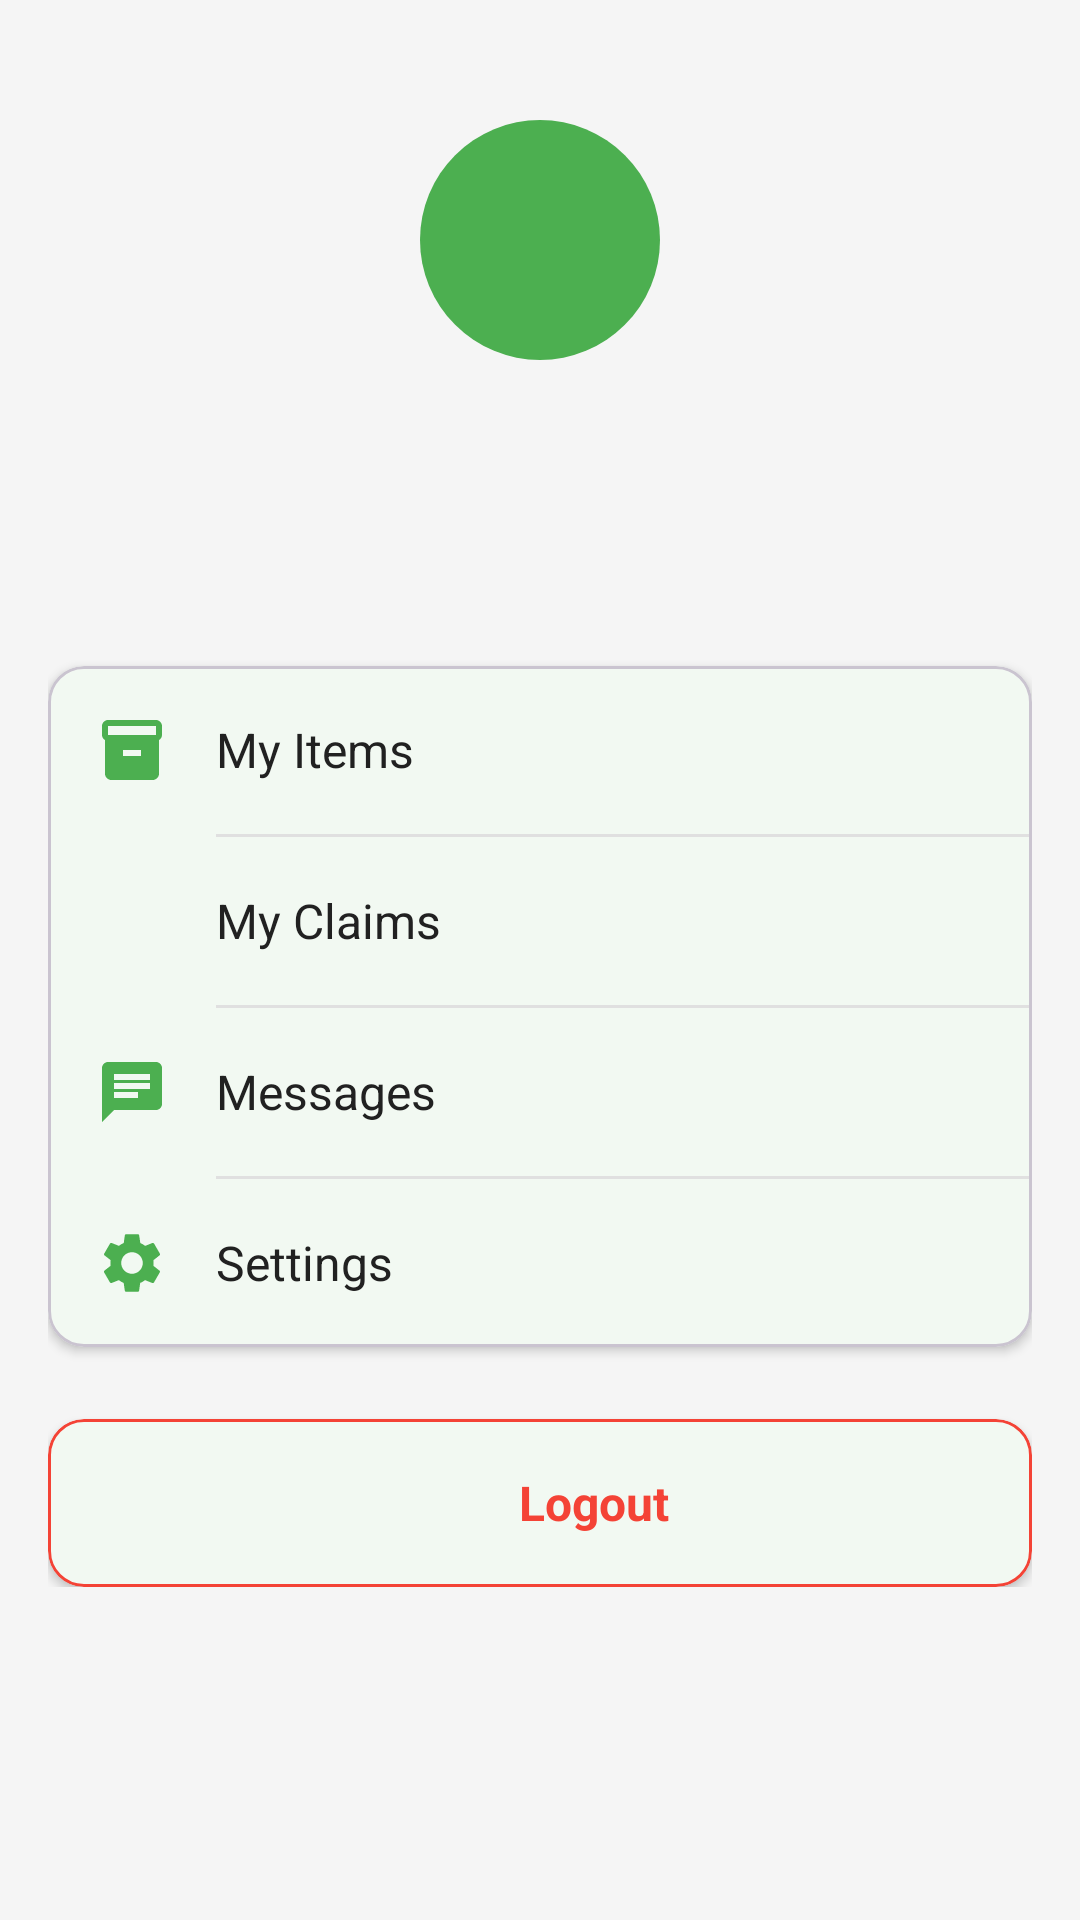

Screen size 1080px x 1920px. Icon name, then its box in pixels as Rect(x1, y1, x2, y2):
inventory: Rect(102, 720, 162, 780)
